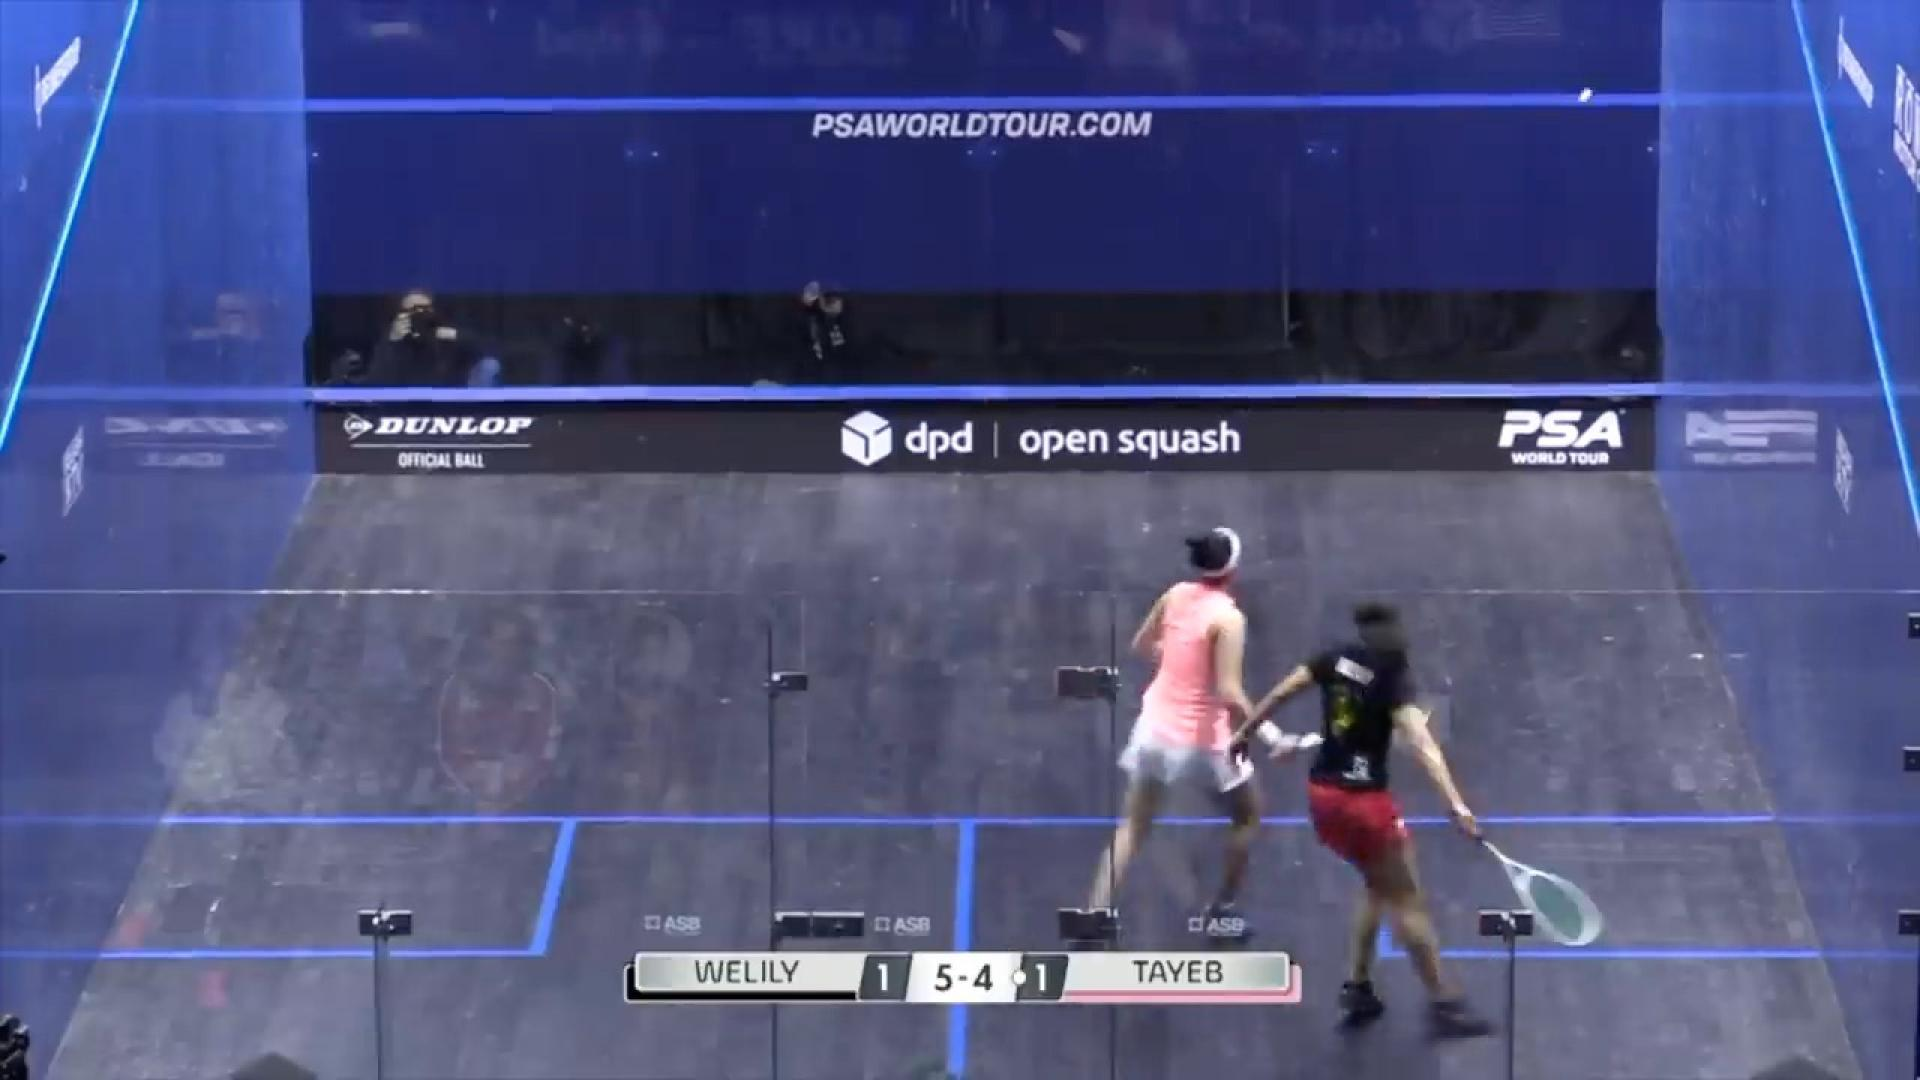Squash-Ball: (1563, 70, 1610, 125)
